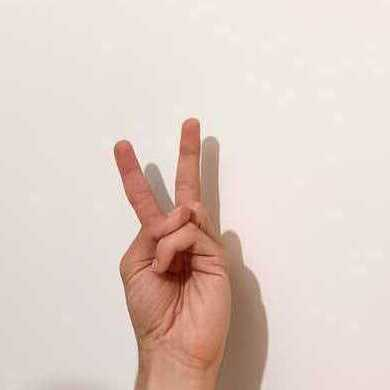V: (115, 119, 232, 369)
